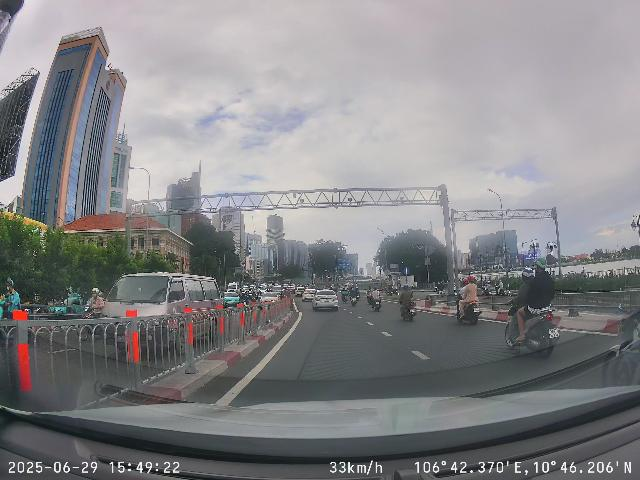301a-cac-xe-chi-duoc-di-thang: (403, 267, 410, 275)
